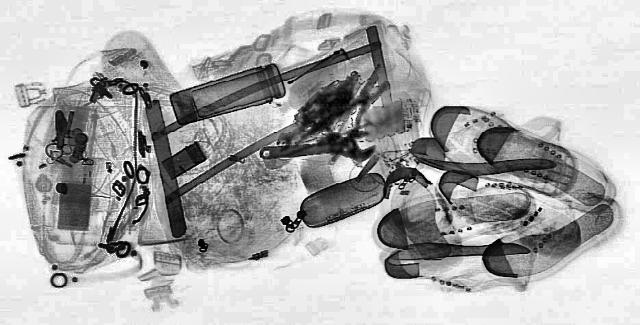Wrench: (254, 130, 378, 169)
